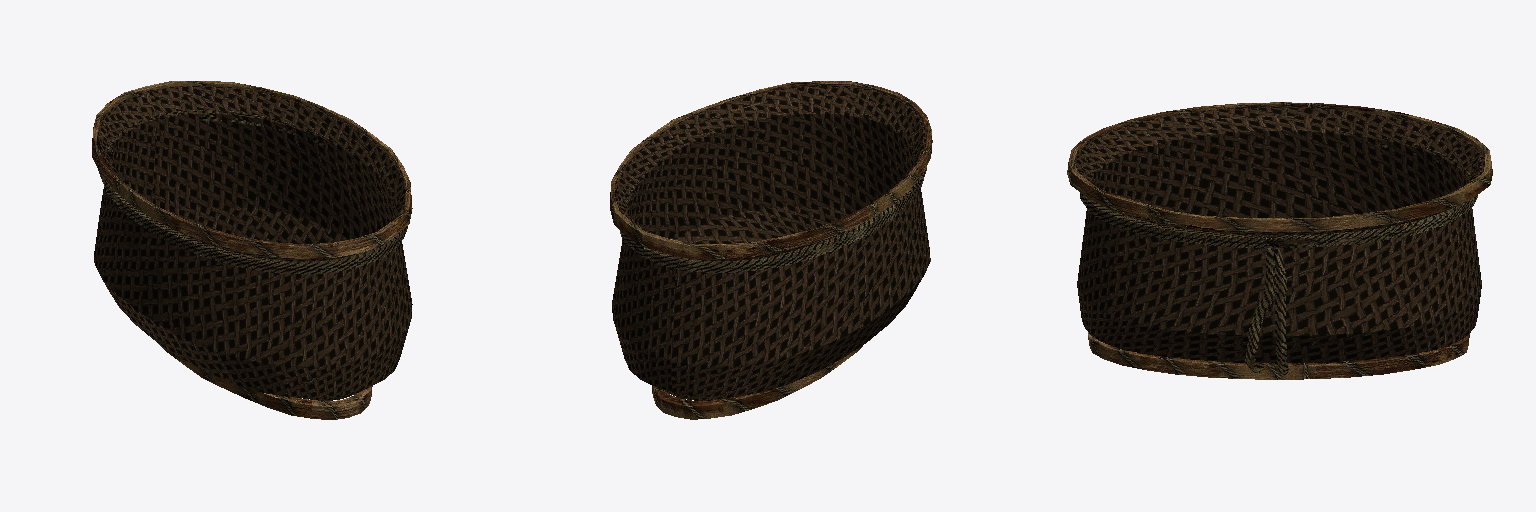
The picture shows the model from 3 angles: view 1: azimuth 30°, elevation 25°; view 2: azimuth 150°, elevation 25°; view 3: azimuth 270°, elevation 25°; orthographic projection.
Visible parts, largest first — view 1: fishing_basket; view 2: fishing_basket; view 3: fishing_basket.
Boxes of the visible parts, box(x1,y1,x2,y2) form: fishing_basket: box(92, 81, 412, 419); fishing_basket: box(610, 81, 932, 419); fishing_basket: box(1067, 102, 1492, 379).
Bounding box in the file's own units: 23.39 × 16.77 × 34.66.
Materials: 2 (2 with a texture image).